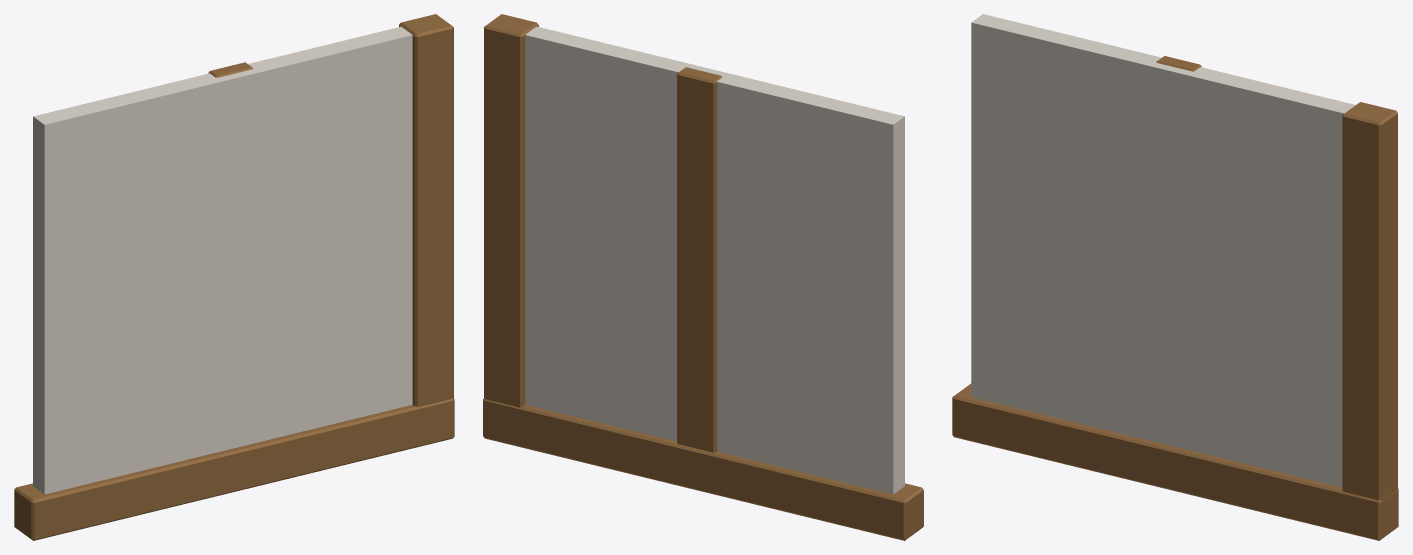
Rendered from WallV.fbx.
The picture shows the model from 3 angles, left to right: view 1: azimuth 30°, elevation 25°; view 2: azimuth 150°, elevation 25°; view 3: azimuth 330°, elevation 25°; orthographic projection.
Parts seen in each view (by area): view 1: Cube.110, Cube.123, Cube.118; view 2: Cube.110, Cube.123, Cube.118, Cube.114; view 3: Cube.110, Cube.118, Cube.123.
Part boxes in pixels (x1,y1,x2,y2): Cube.110: (33,26,412,494); Cube.123: (14,398,454,540); Cube.118: (399,14,453,406); Cube.110: (525,26,904,494); Cube.123: (483,398,923,540); Cube.118: (484,14,538,407); Cube.114: (677,67,722,452); Cube.110: (971,14,1355,487); Cube.118: (1342,102,1397,500); Cube.123: (952,383,1398,540).
Size of the model in its own units: 216 by 202 by 17.27.
